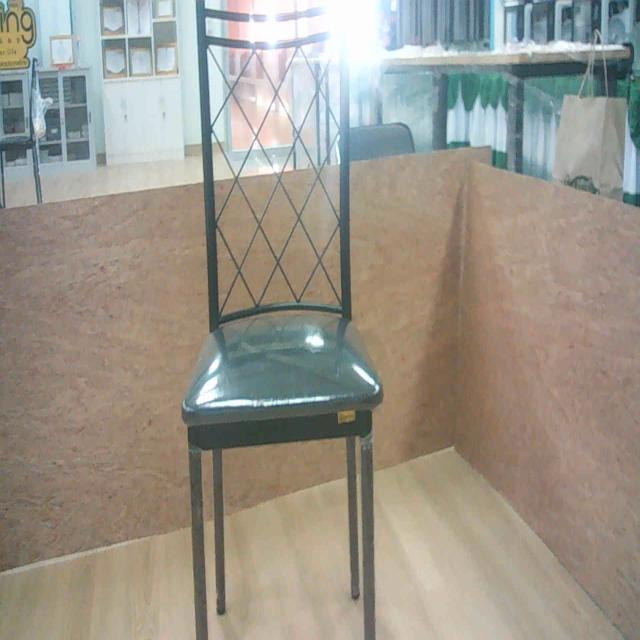emtpy: (185, 0, 374, 640)
